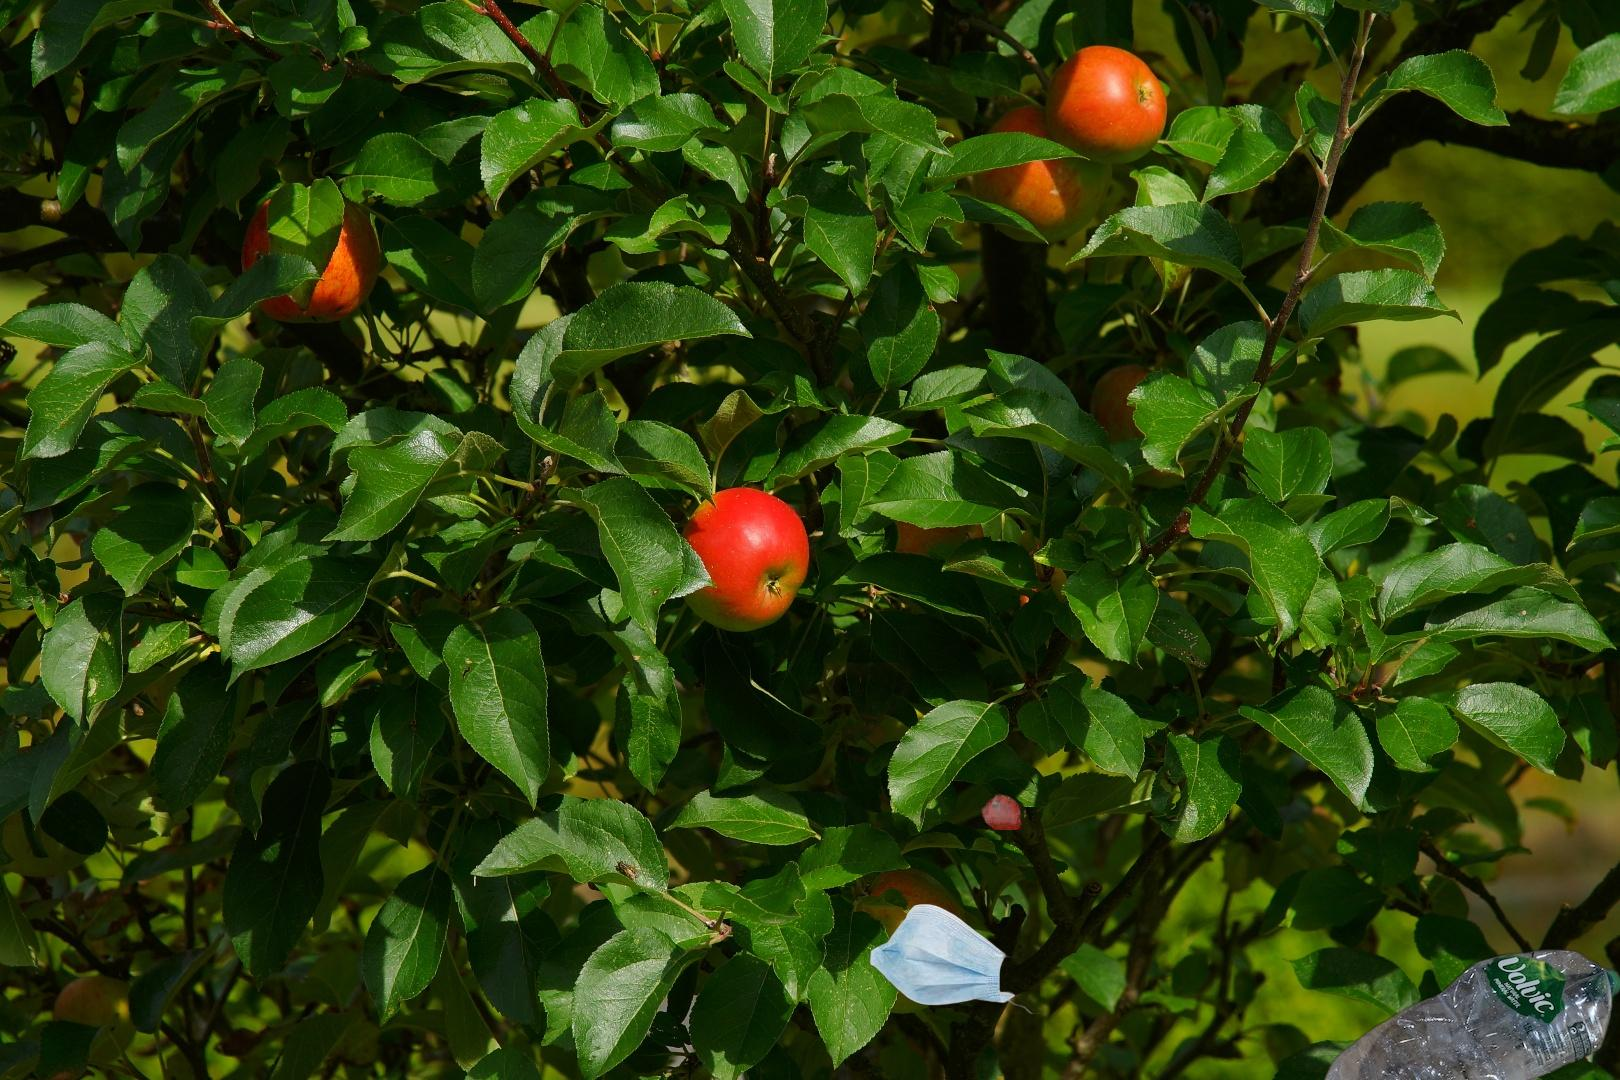biological: (808, 662, 1108, 830)
plastic-bottles: (1319, 947, 1620, 1080)
trash: (867, 900, 1047, 1017)
